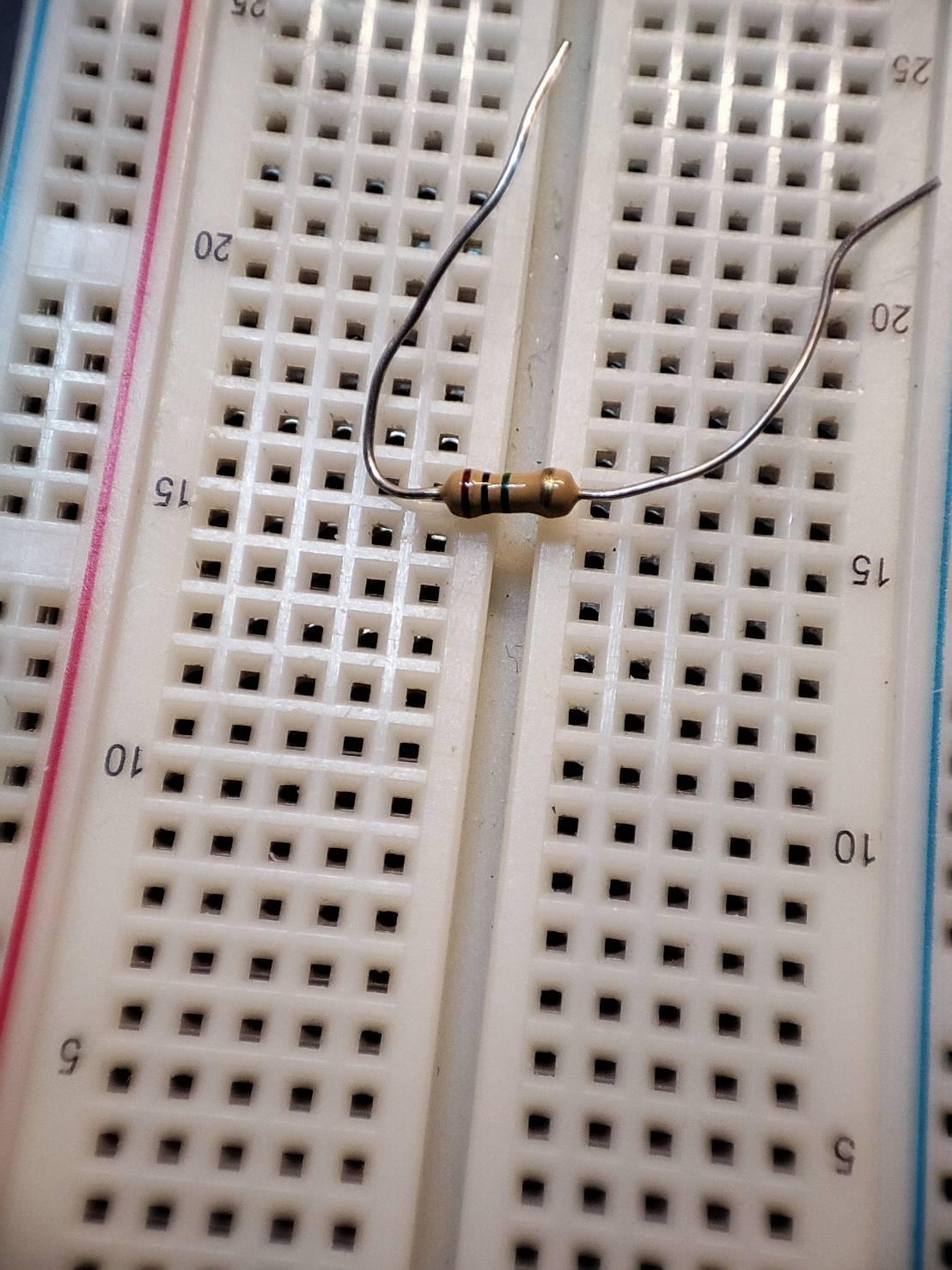resistor: (426, 451, 589, 525)
